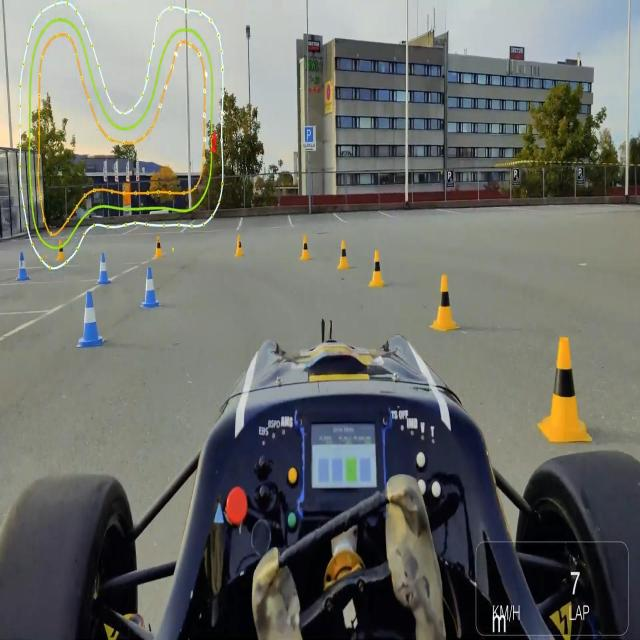blue_cone: (78, 289, 102, 353), (142, 268, 160, 309), (98, 250, 111, 285), (18, 250, 29, 282)
yellow_cone: (542, 336, 586, 440), (431, 273, 458, 333), (369, 251, 385, 289), (337, 240, 351, 272), (55, 240, 66, 264), (234, 234, 244, 260), (300, 238, 311, 260), (154, 237, 164, 259)
